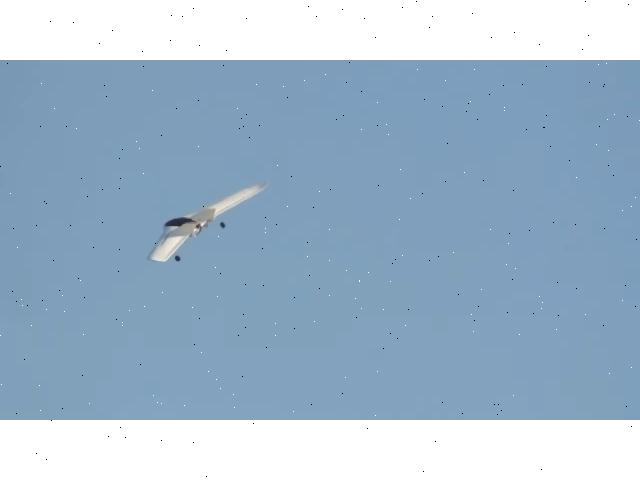Anti-Drone: (150, 181, 270, 263)
